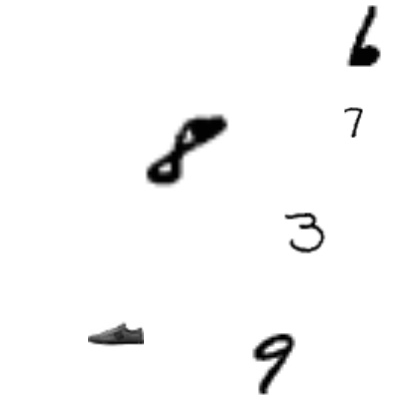3: (279, 203, 335, 259)
6: (320, 0, 404, 84)
7: (334, 97, 376, 139)
8: (127, 91, 239, 203)
9: (229, 313, 313, 397)
Sneaker: (88, 306, 144, 362)
